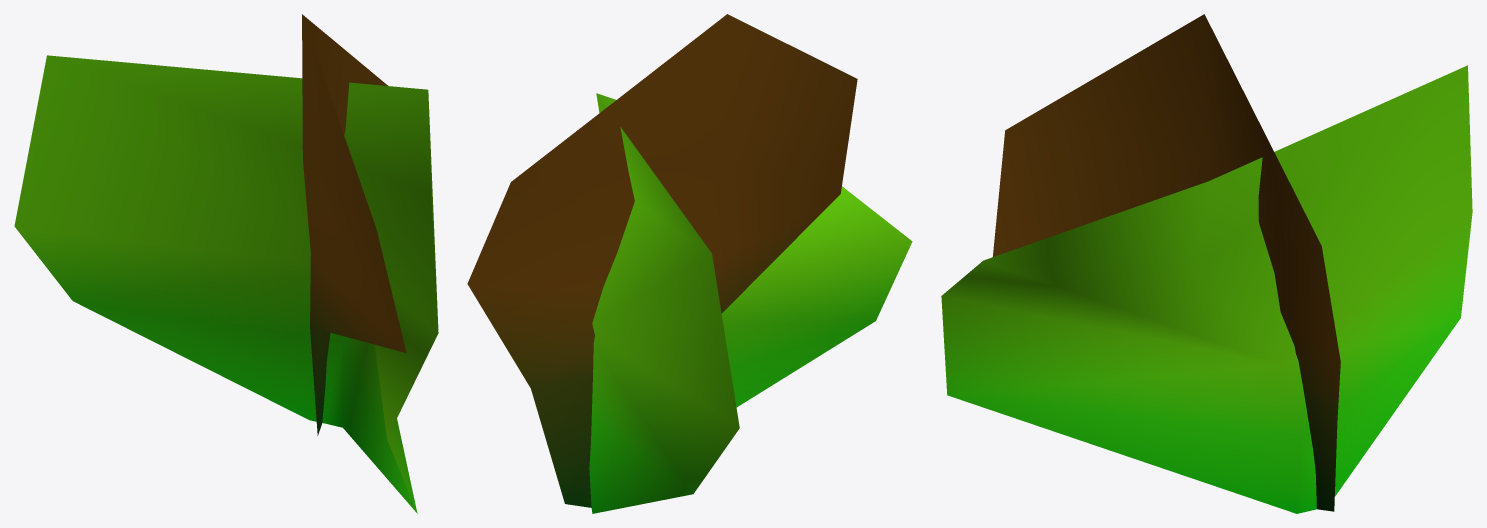
File: Var1Hi55.fbx
3 renders of one model, left to right at view 1: azimuth 30°, elevation 25°; view 2: azimuth 150°, elevation 25°; view 3: azimuth 270°, elevation 25°, orthographic. The views are drawn at different scales.
Parts seen in each view (by area): view 1: bend1; view 2: bend1; view 3: bend1.
Boxes of the visible parts, <box> form: bend1: <box>14,14,438,513</box>; bend1: <box>467,14,912,513</box>; bend1: <box>941,14,1472,513</box>.
Size of the model in its own units: 1.03 by 1.38 by 1.43.
